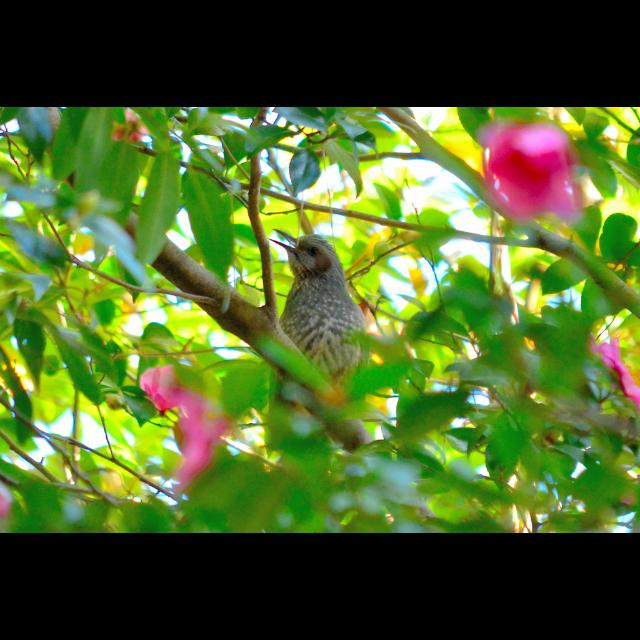Flower: (140, 362, 236, 503), (481, 117, 591, 226), (599, 340, 639, 404), (106, 108, 152, 144)
